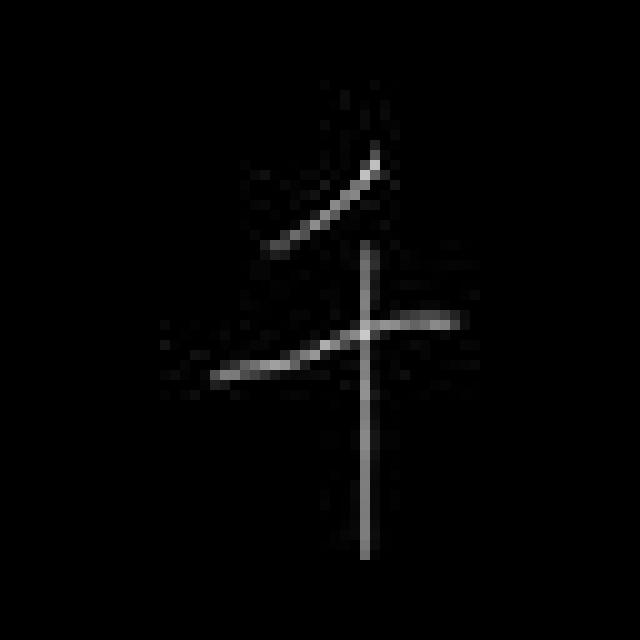1000 -a thousand-: (200, 147, 467, 585)
